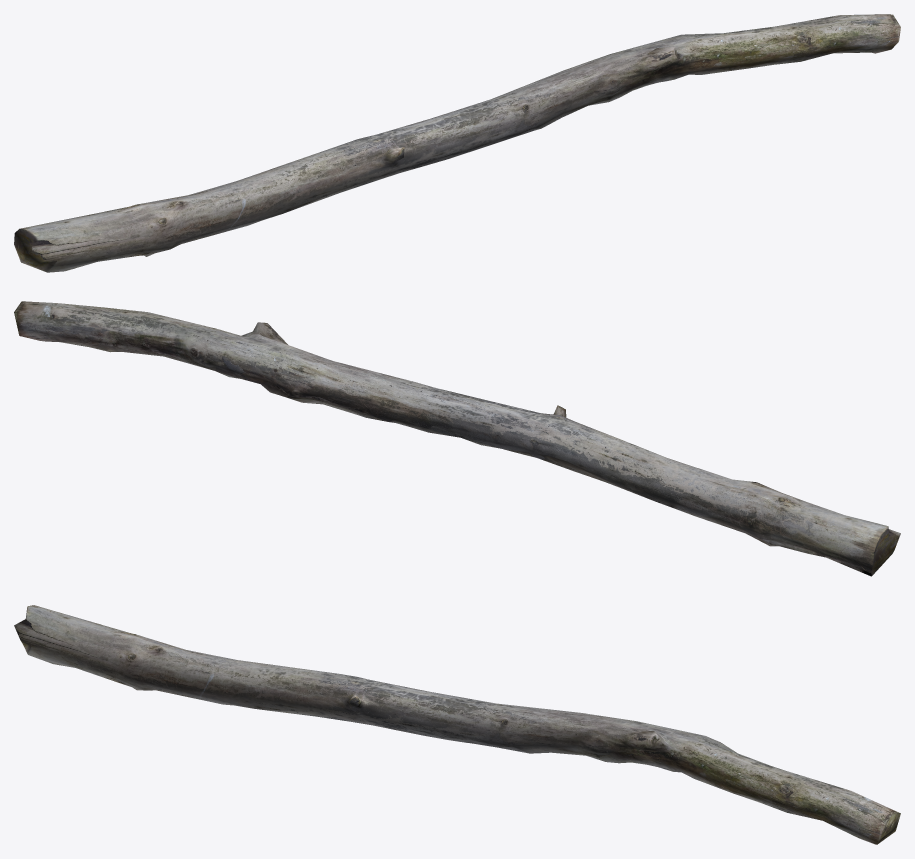
Rendered from SM_FallenTree_03_01.fbx.
3 views of the same model, one above another, from view 1: azimuth 30°, elevation 25°; view 2: azimuth 150°, elevation 25°; view 3: azimuth 330°, elevation 25° (orthographic).
Visible parts, largest first — view 1: sm_FallenTree_03_01_LOD0; view 2: sm_FallenTree_03_01_LOD0; view 3: sm_FallenTree_03_01_LOD0.
Boxes of the visible parts, x1,y1,x2,y2 form: sm_FallenTree_03_01_LOD0: [14, 14, 900, 272]; sm_FallenTree_03_01_LOD0: [14, 301, 900, 576]; sm_FallenTree_03_01_LOD0: [14, 605, 900, 844].
Size of the model in its own units: 39.4 by 470 by 46.14.
